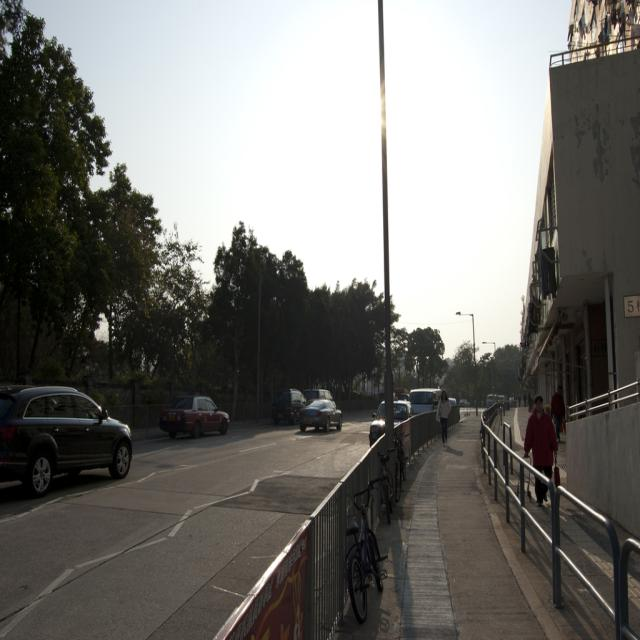car: (158, 387, 228, 436), (302, 392, 342, 433), (268, 385, 305, 425)
